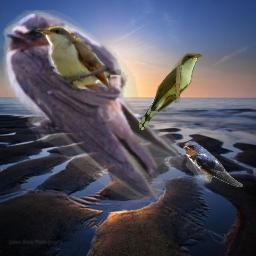Cuckoo: (34, 20, 121, 92), (139, 53, 202, 130)
Swallow: (1, 10, 184, 202), (183, 141, 243, 187)
